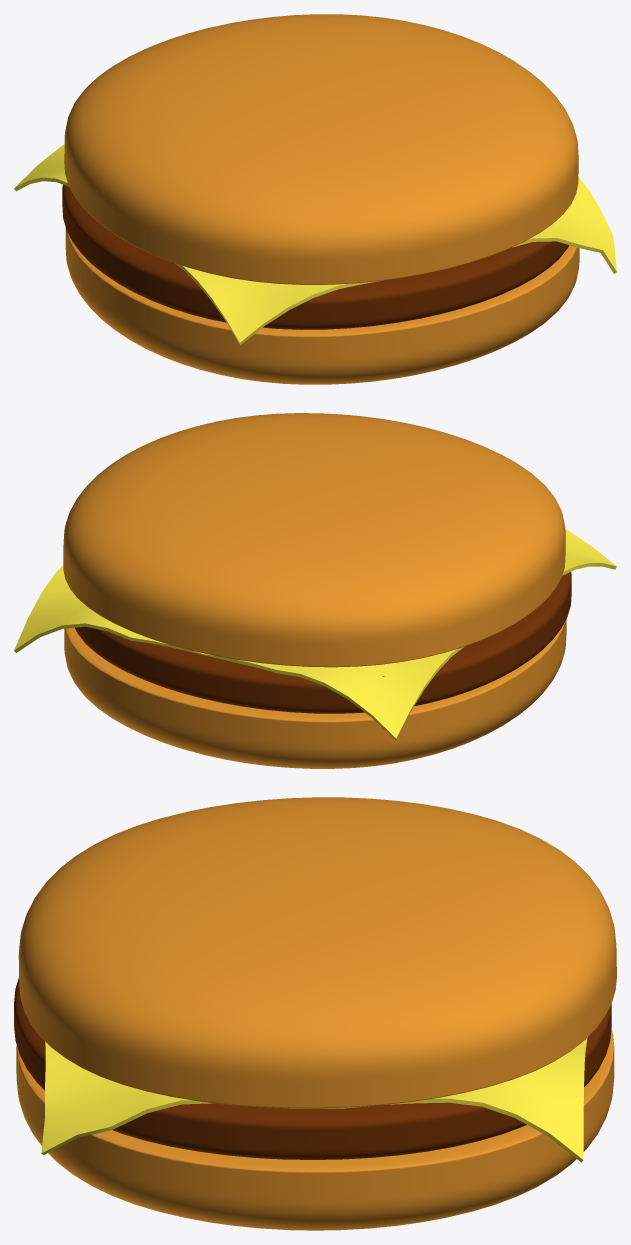
The model's file is Burger.glb.
The picture shows the model from 3 angles, top to bottom: view 1: azimuth 30°, elevation 25°; view 2: azimuth 150°, elevation 25°; view 3: azimuth 270°, elevation 25°; orthographic projection. The views are drawn at different scales.
Parts seen in each view (by area): view 1: Cube.002, Cube, Cube.001, Plane; view 2: Cube.002, Cube, Cube.001, Plane; view 3: Cube.002, Cube, Cube.001, Plane.
Boxes of the visible parts, box(x1,y1,x2,y2) form: Cube.002: box(64, 14, 578, 284); Cube: box(65, 228, 579, 384); Cube.001: box(62, 185, 569, 329); Plane: box(14, 144, 616, 344); Cube.002: box(63, 413, 565, 667); Cube: box(64, 619, 566, 768); Cube.001: box(75, 572, 571, 713); Plane: box(14, 529, 616, 740); Cube.002: box(18, 797, 616, 1108); Cube: box(16, 1029, 614, 1230); Cube.001: box(14, 978, 611, 1159); Plane: box(41, 1037, 587, 1162).
Bounding box in the file's own units: 9.15 × 4.42 × 9.14.
